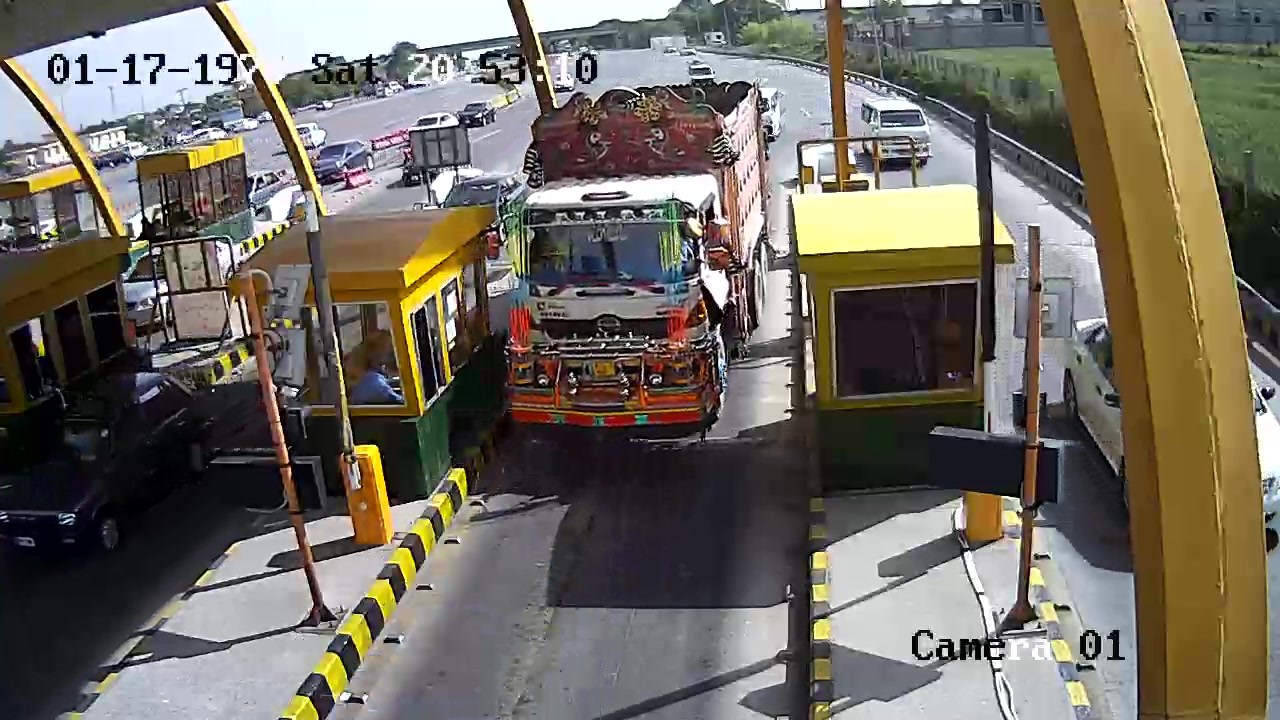F5: (504, 79, 765, 431)
